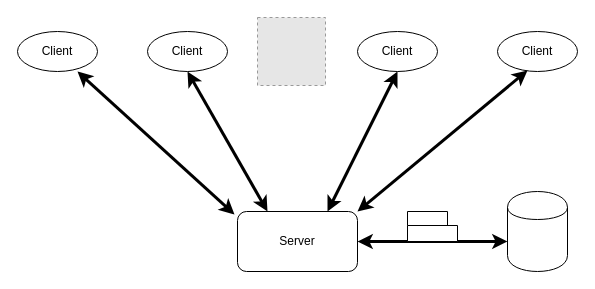
Image size: 595x289. Some labels were removed from this diagram. Grey dashed boxes stand in for pictures. The centre of each missing label's shape, as x and y in pixels:
"Database" belongs at (x=537, y=231).
"sqlite3.h" belongs at (x=432, y=226).
